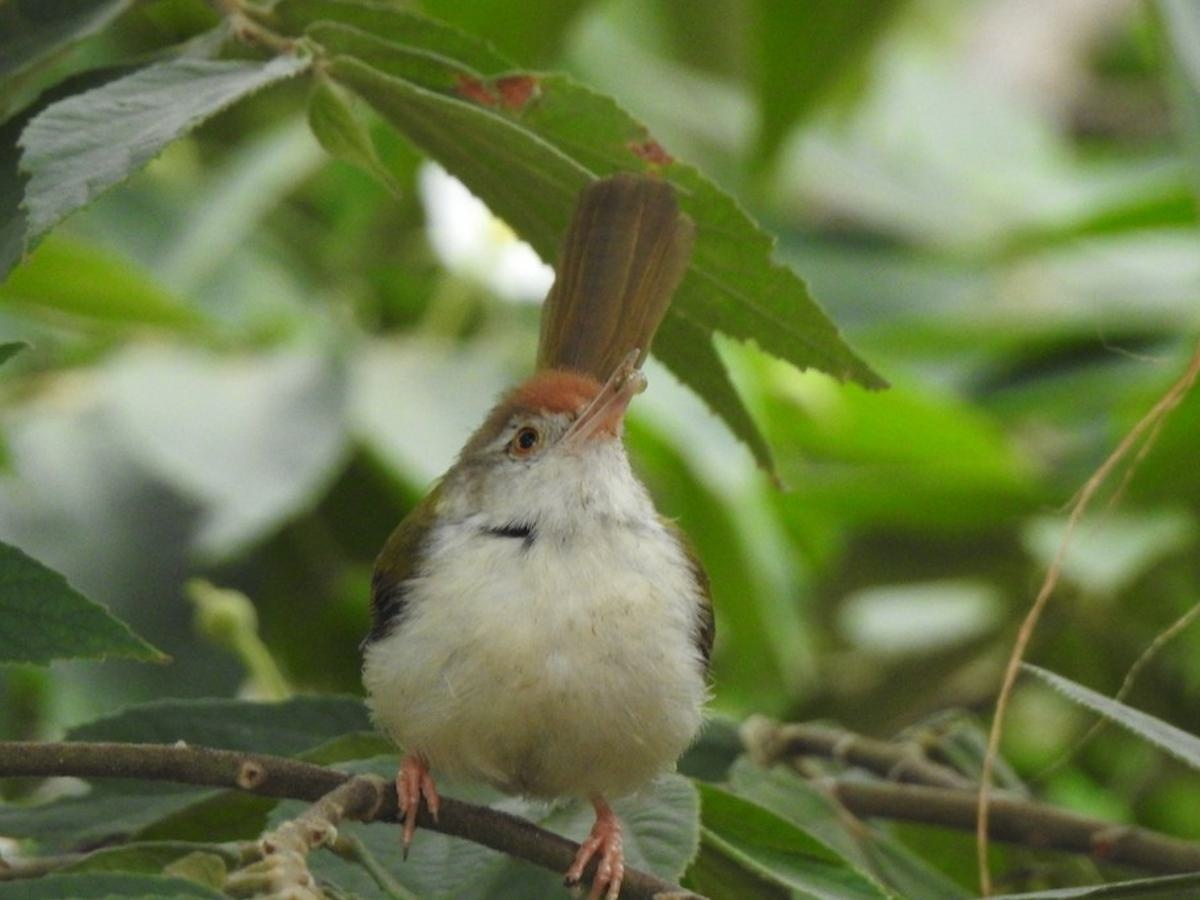tailorbird: (331, 163, 756, 840)
